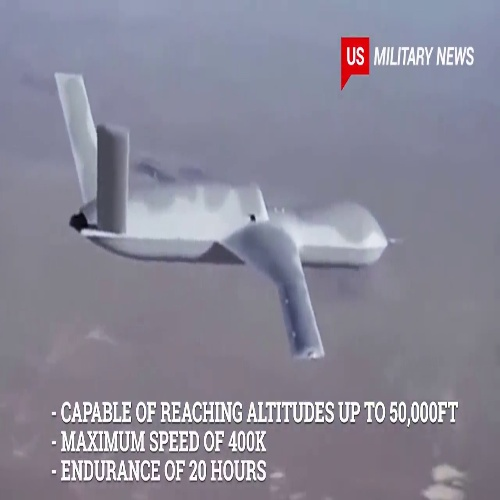uav413: (53, 70, 401, 360)
